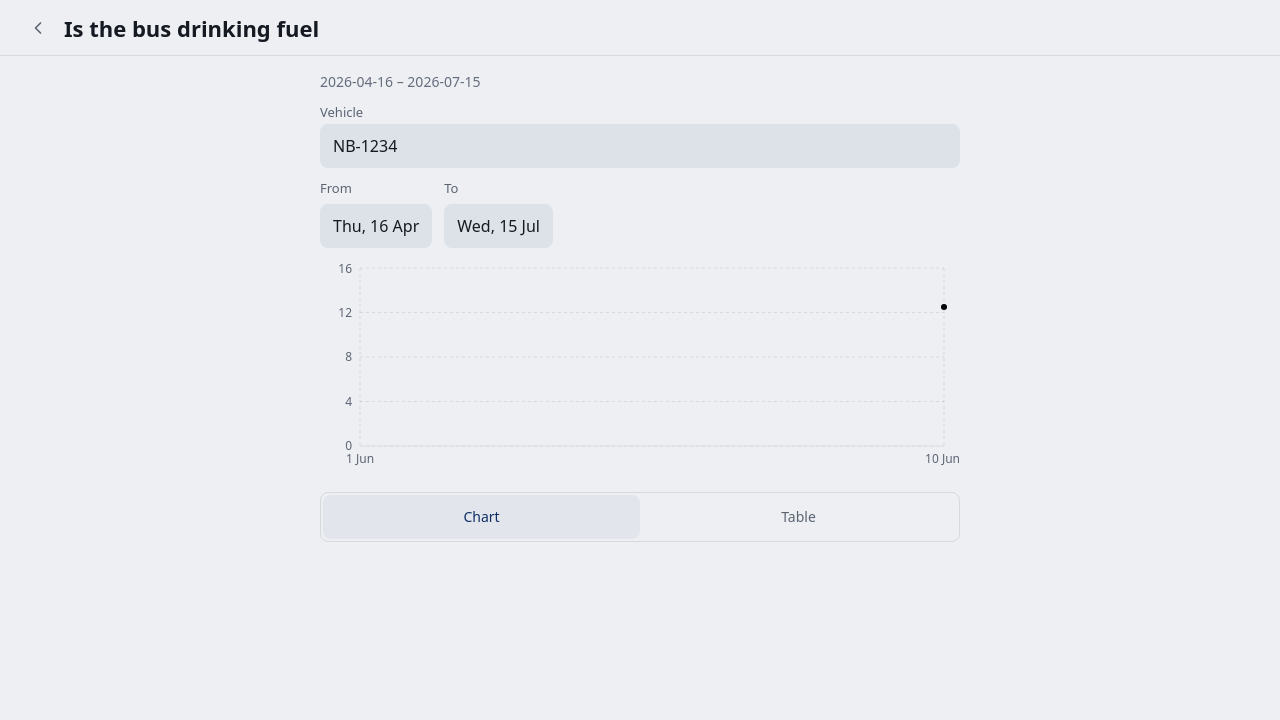
Test: switching to the table view shows NotAvailable per row for a missing reading, not a fabricated ratio
This screenshot has width=1280, height=720.
Click the button "Table" at (798, 517), box [640,495,957,539]
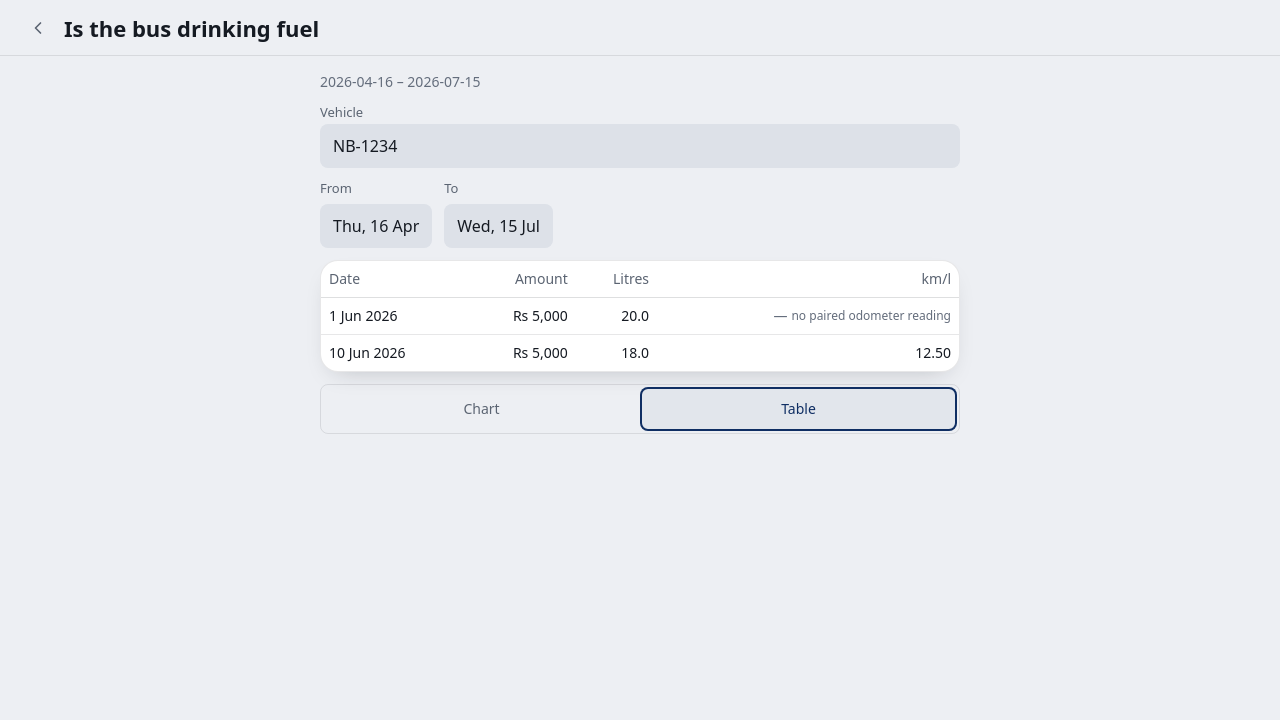
Now the text "12.50" is shown, box [657,334,959,371]
Now the element named "Not available: no paired odometer reading" is shown, box [774,306,951,326]
